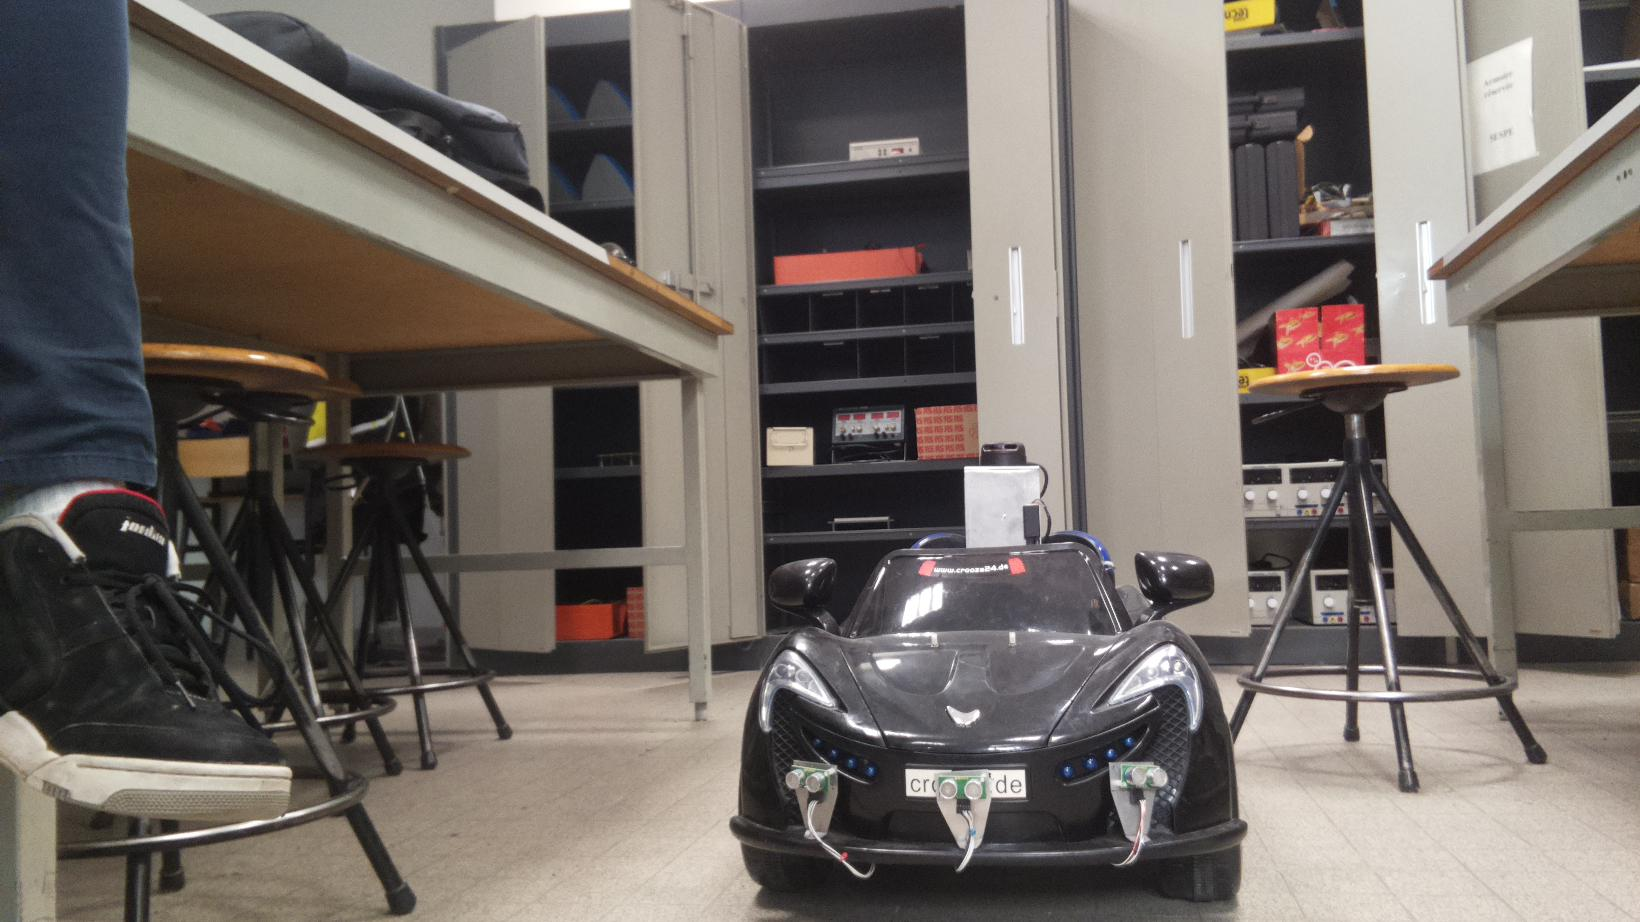big: (731, 526, 1250, 922)
